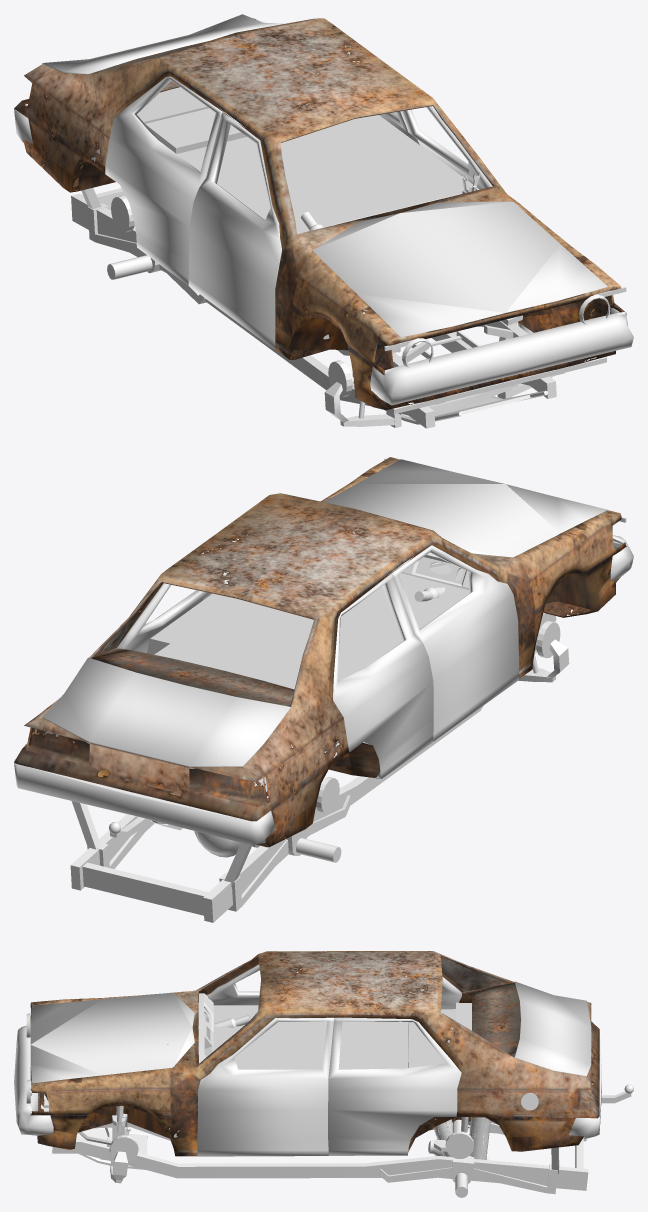
File: apocasigma.glb
3 views of the same model, one above another, from view 1: azimuth 30°, elevation 25°; view 2: azimuth 150°, elevation 25°; view 3: azimuth 270°, elevation 25° (orthographic). The views are drawn at different scales.
Parts seen in each view (by area): view 1: sigma-chassis, hood, Physlock Cab, Door Front Right, Door Rear Right, bumper_f, suspension_lifted, boot, suspension_front_lifted, engine_bay, Physlock RearCab, suspension rear lifted (+5 smaller); view 2: sigma-chassis, boot, hood, Physlock Cab, Door Front Right, Door Rear Right, suspension_lifted, bumper_r, suspension rear lifted, Physlock RearCab, Door Rear Left, dashboard (+3 smaller); view 3: sigma-chassis, Door Front Left, hood, Door Rear Left, suspension_lifted, Physlock Cab, boot, suspension rear lifted, bumper_f, Physlock RearCab, spring, Door Front Right (+9 smaller).
Boxes of the visible parts, box(x1,y1,x2,y2) form: sigma-chassis: box(14, 18, 626, 409); hood: box(312, 201, 607, 337); Physlock Cab: box(177, 115, 479, 339); Door Front Right: box(188, 112, 281, 349); Door Rear Right: box(105, 76, 223, 285); bumper_f: box(370, 308, 633, 405); suspension_lifted: box(71, 188, 556, 428); boot: box(42, 14, 285, 74); suspension_front_lifted: box(324, 322, 555, 427); engine_bay: box(337, 309, 606, 414); Physlock RearCab: box(145, 108, 246, 153); suspension rear lifted: box(87, 203, 206, 304); sigma-chassis: box(14, 457, 626, 847); boot: box(42, 657, 290, 768); hood: box(324, 459, 607, 557); Physlock Cab: box(147, 564, 469, 679); Door Front Right: box(391, 545, 518, 741); Door Rear Right: box(333, 573, 433, 778); suspension_lifted: box(70, 613, 556, 922); bumper_r: box(14, 762, 275, 844); suspension rear lifted: box(87, 795, 350, 911); Physlock RearCab: box(154, 640, 339, 689); Door Rear Left: box(117, 583, 207, 653); dashboard: box(401, 553, 469, 590); sigma-chassis: box(30, 951, 599, 1156); Door Front Left: box(197, 1018, 334, 1156); hood: box(30, 992, 194, 1083); Door Rear Left: box(328, 1017, 461, 1155); suspension_lifted: box(52, 1121, 588, 1190); Physlock Cab: box(174, 1005, 407, 1137); boot: box(514, 981, 591, 1076); suspension rear lifted: box(379, 1117, 557, 1197); bumper_f: box(14, 1026, 53, 1135); Physlock RearCab: box(408, 1009, 455, 1119); spring: box(433, 1117, 490, 1159); Door Front Right: box(206, 964, 259, 1005).
Size of what is drawn, in the model's own units: 1.61 by 1.59 by 4.62.
Materials: 17 (1 with a texture image).
